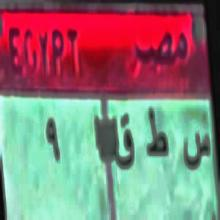9: (44, 115, 61, 165)
Taa: (144, 101, 168, 170)
qaaf: (112, 105, 135, 188)
seen: (182, 126, 212, 176)
